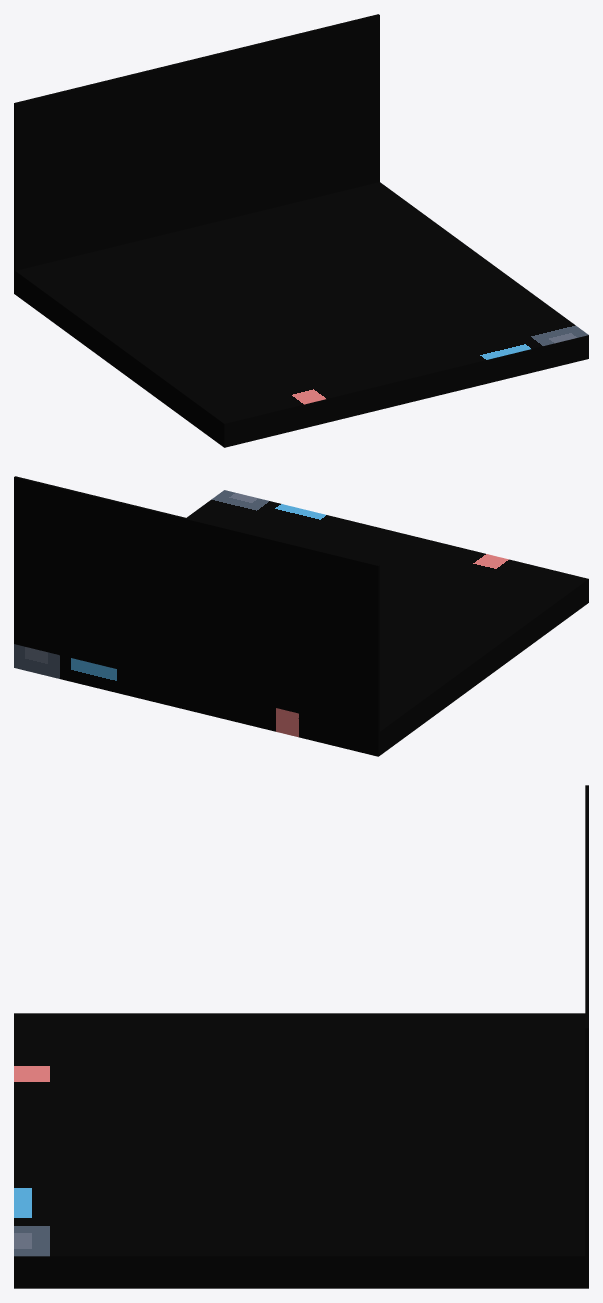
File: pale_vine_side_1.obj
3 renders of one model, top to bottom at view 1: azimuth 30°, elevation 25°; view 2: azimuth 150°, elevation 25°; view 3: azimuth 270°, elevation 25°, orthographic. The views are drawn at different scales.
Parts seen in each view (by area): view 1: cube; view 2: cube; view 3: cube.
Boxes of the visible parts, bbox=[...] form: cube: bbox=[14, 14, 588, 447]; cube: bbox=[14, 476, 588, 756]; cube: bbox=[14, 785, 588, 1288].
Bounding box in the file's own units: 1 × 0.5 × 1.
